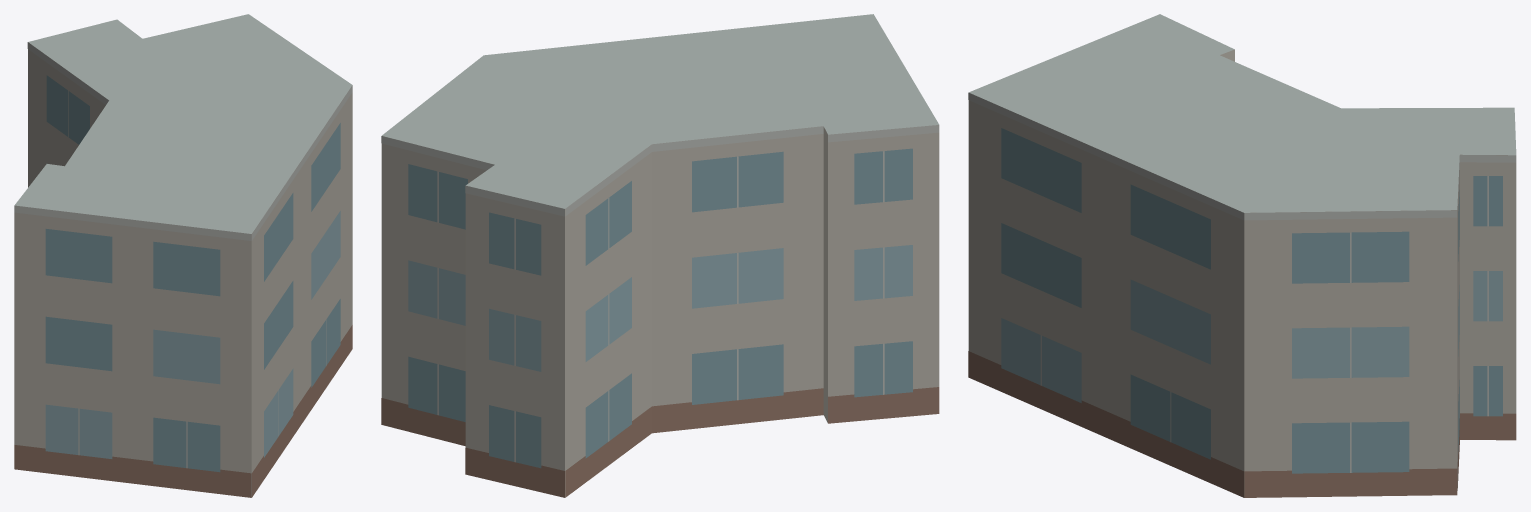
The model's file is survey-upis-32985699.glb.
The picture shows the model from 3 angles, left to right: view 1: azimuth 30°, elevation 25°; view 2: azimuth 150°, elevation 25°; view 3: azimuth 270°, elevation 25°; orthographic projection. The views are drawn at different scales.
Parts seen in each view (by area): view 1: survey-upis-32985699.tmp; view 2: survey-upis-32985699.tmp; view 3: survey-upis-32985699.tmp.
Boxes of the visible parts, x1,y1,x2,y2 form: survey-upis-32985699.tmp: (14,14,352,497); survey-upis-32985699.tmp: (381,14,939,497); survey-upis-32985699.tmp: (968,14,1516,497).
Size of the model in its own units: 13.7 by 9.15 by 15.95.
